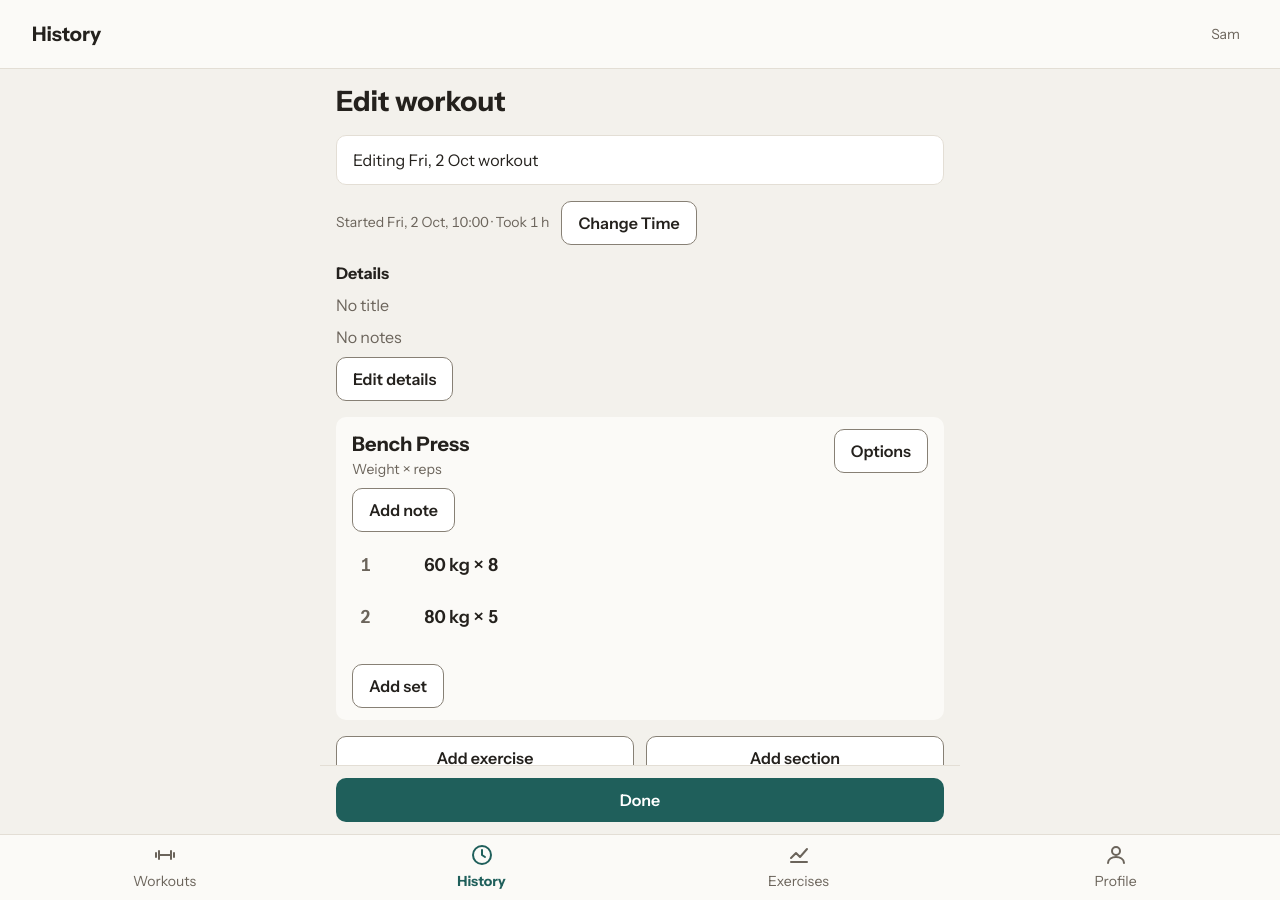
it: 18.0 AC6 — edit a set › no change → no request; the sheet closes
The width and height of the screenshot is (1280, 900).
Click the button "2 80 kg × 5" at (461, 617), box top-left (352, 596), bottom-right (928, 640)
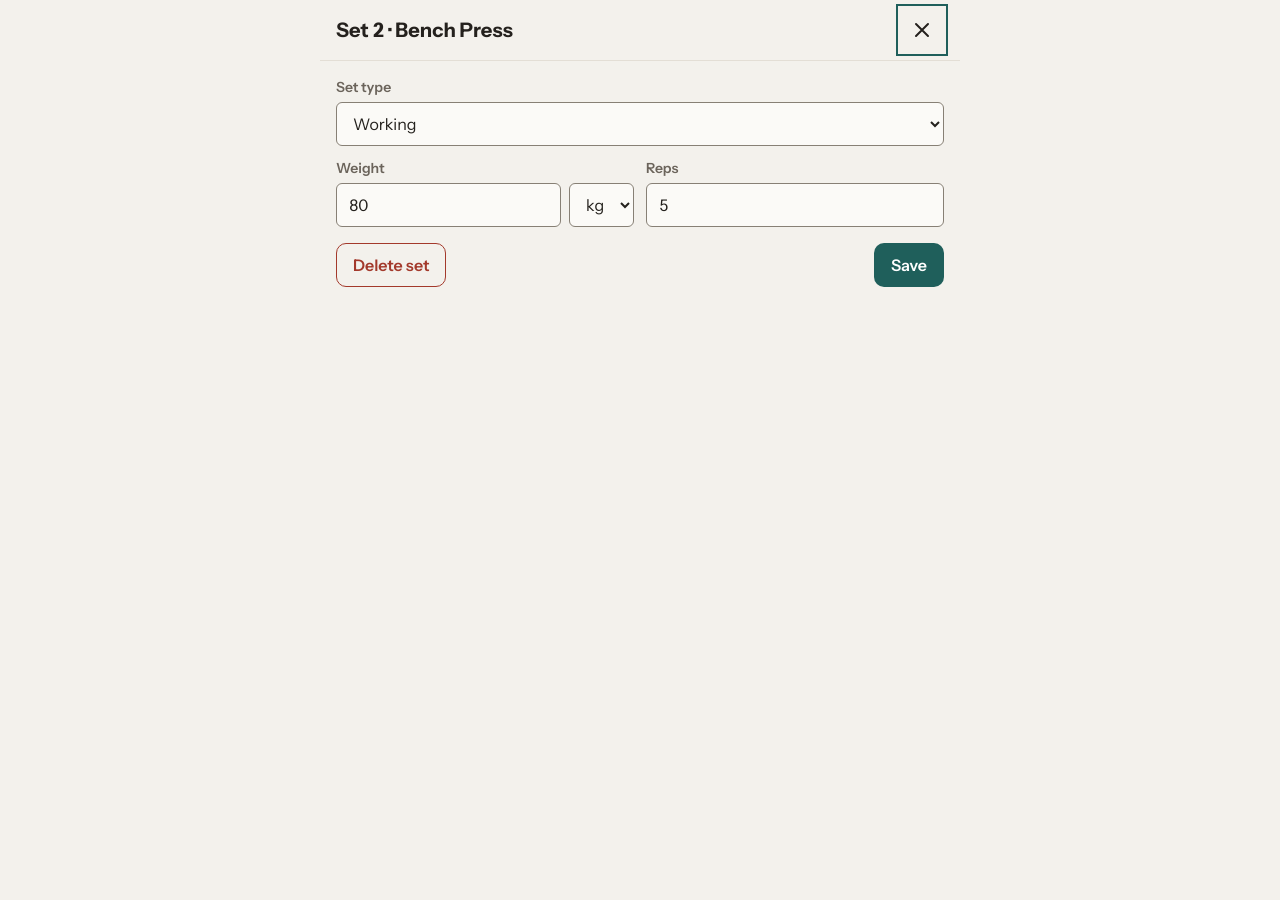
Click the button "Save" at (909, 265), box top-left (874, 243), bottom-right (944, 287)
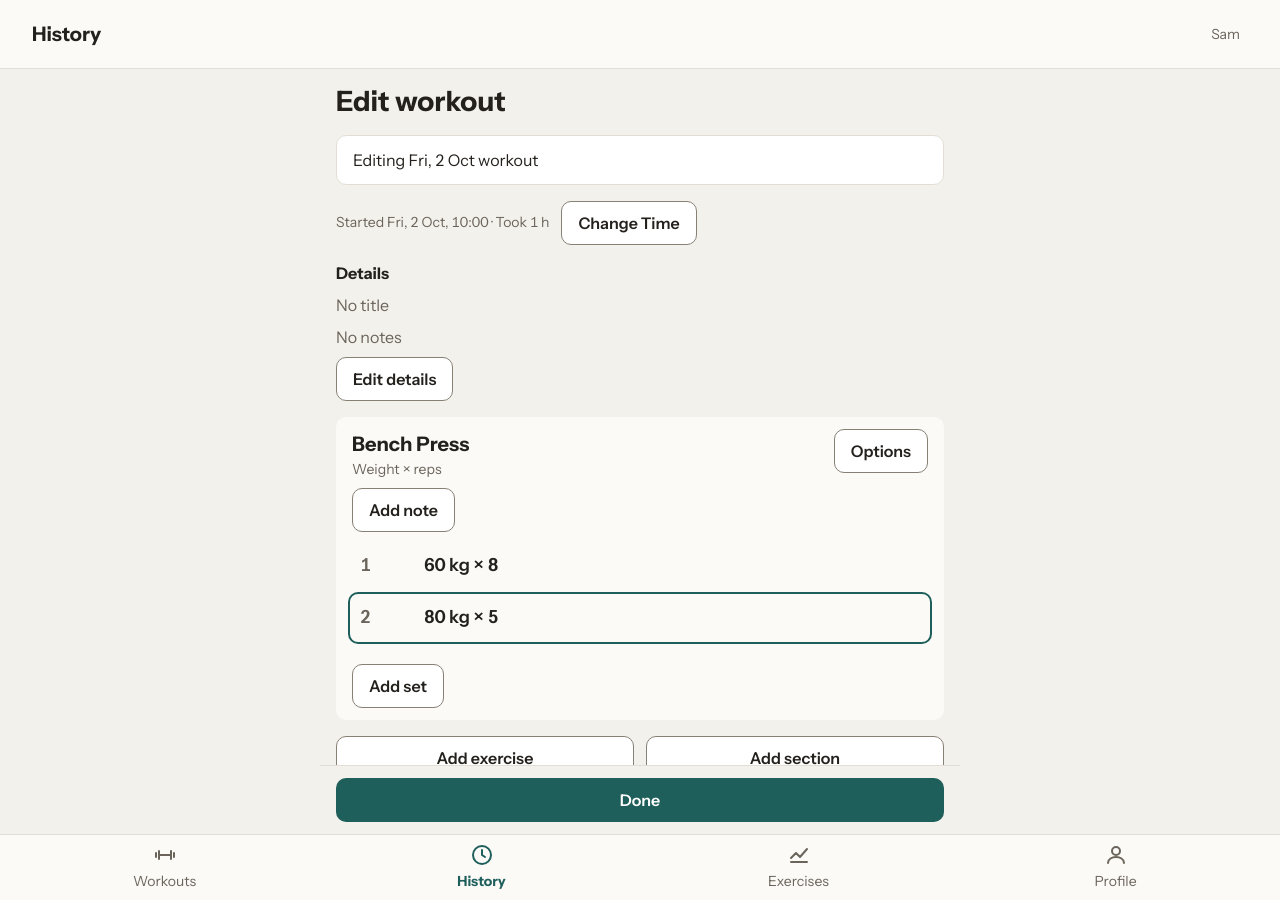
Now the dialog is gone
